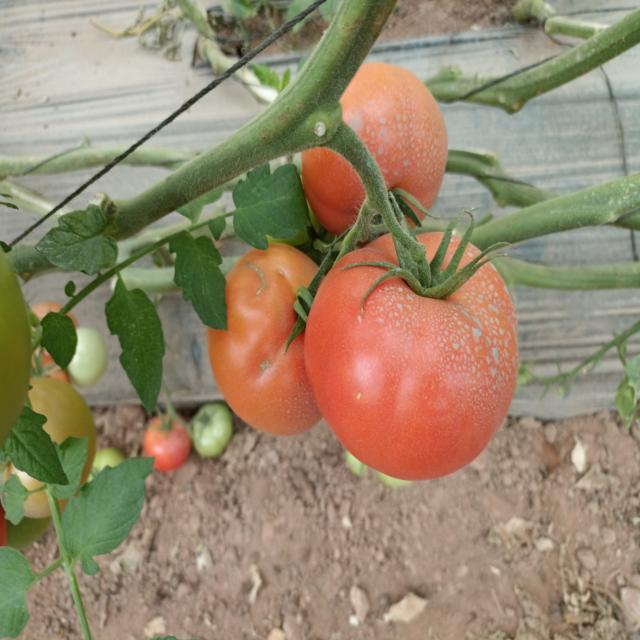Ripe Tomato: (306, 228, 523, 484), (301, 62, 452, 240), (212, 247, 326, 429)
